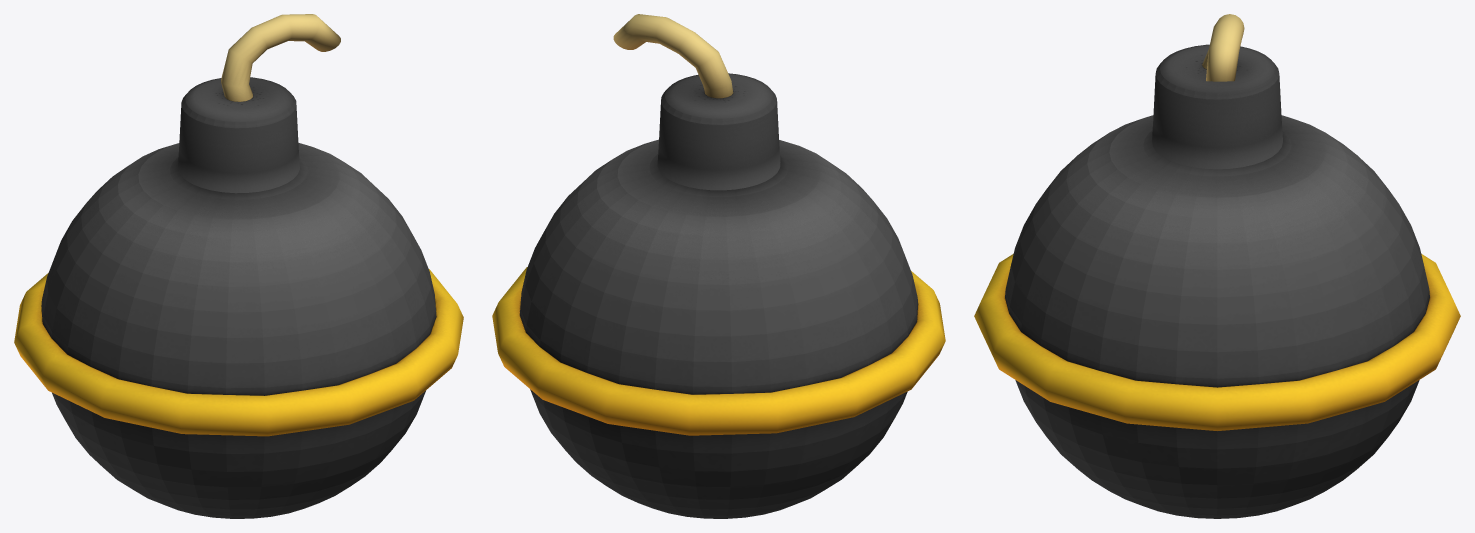
File: Booster_Bomb.fbx
3 renders of one model, left to right at view 1: azimuth 30°, elevation 25°; view 2: azimuth 150°, elevation 25°; view 3: azimuth 270°, elevation 25°, orthographic. The views are drawn at different scales.
Parts seen in each view (by area): view 1: Booster_Bomb; view 2: Booster_Bomb; view 3: Booster_Bomb.
Boxes of the visible parts, bbox=[...] form: Booster_Bomb: bbox=[14, 14, 463, 518]; Booster_Bomb: bbox=[492, 14, 945, 518]; Booster_Bomb: bbox=[974, 14, 1460, 518].
Bounding box in the file's own units: 166 × 189 × 166.
